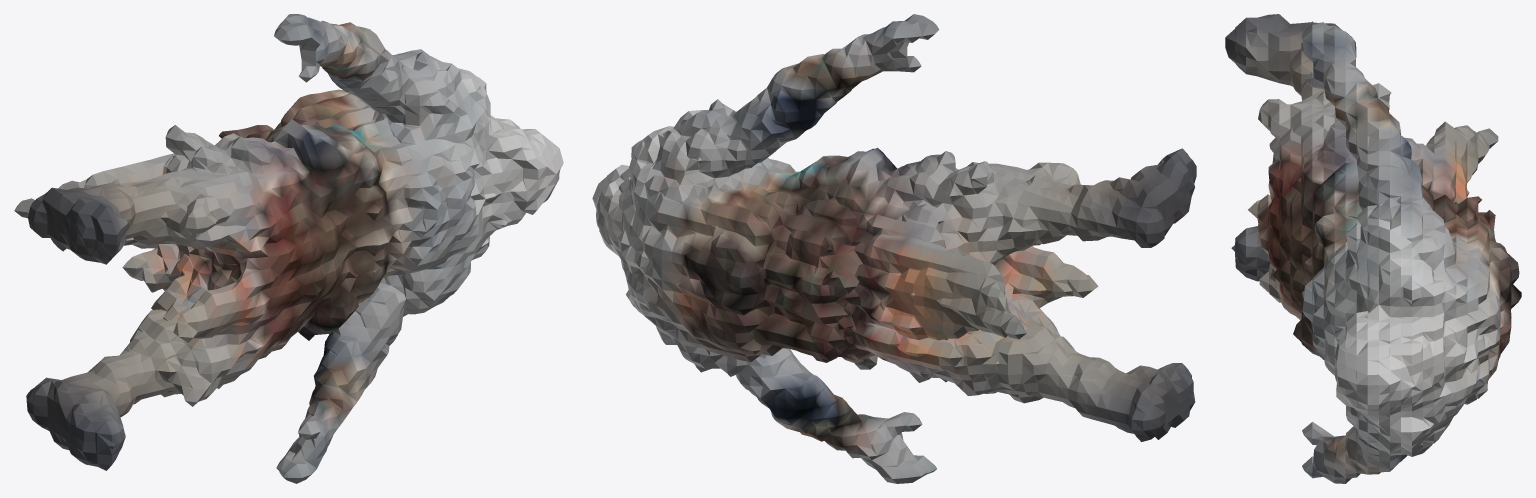
3 views of the same model, side by side, from view 1: azimuth 30°, elevation 25°; view 2: azimuth 150°, elevation 25°; view 3: azimuth 270°, elevation 25° (orthographic). The views are drawn at different scales.
Visible parts, largest first — view 1: world; view 2: world; view 3: world.
Boxes of the visible parts, x1,y1,x2,y2 form: world: (14,14,563,483); world: (592,14,1196,483); world: (1225,14,1521,483).
Size of the model in its own units: 1.02 by 0.8233 by 0.4908.
